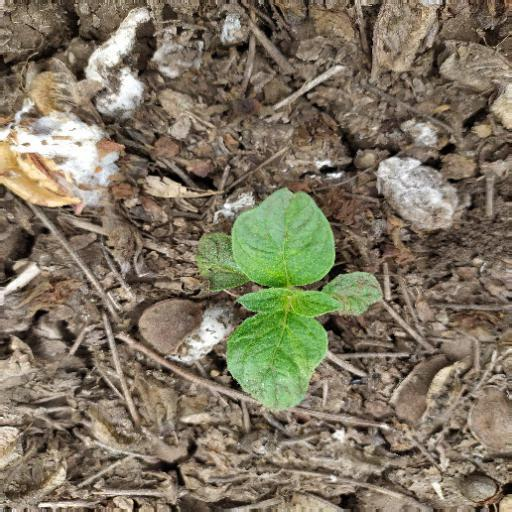crop: (191, 187, 381, 409)
